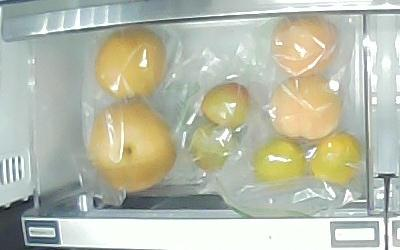peach_vinyl: (272, 73, 342, 140), (272, 15, 337, 75)
pear_vinyl: (88, 102, 177, 195), (95, 27, 165, 100)
tangerine_vinyl: (310, 131, 361, 186), (254, 140, 304, 185)
tomato_vinyl: (191, 124, 241, 174), (202, 84, 251, 129)
